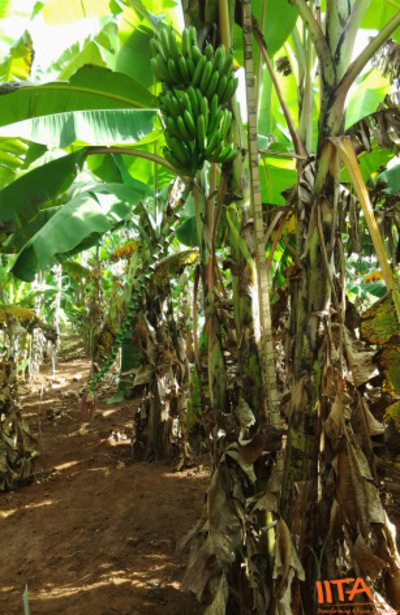bananaHand: (148, 17, 242, 182)
